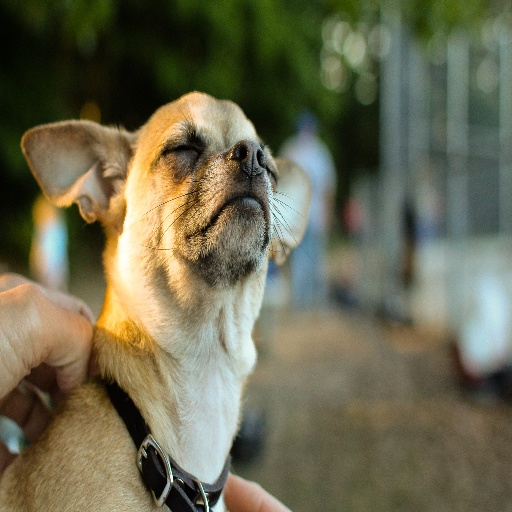hand: (0, 274, 81, 433), (220, 469, 293, 511)
